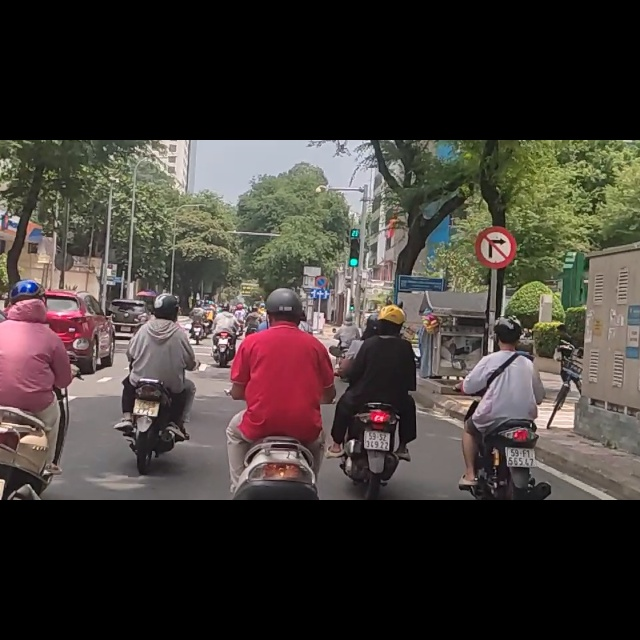bien_chi_dan: (474, 155, 518, 230), (315, 241, 327, 264)
